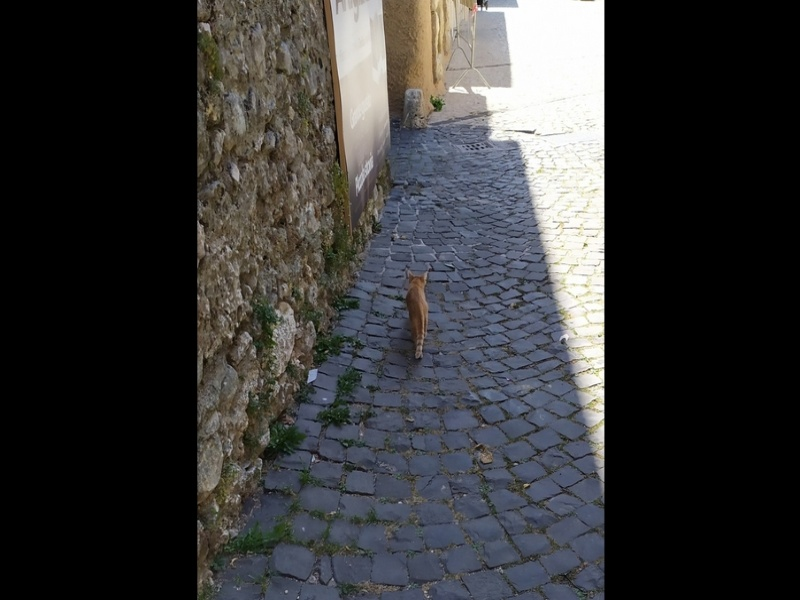cat: (403, 268, 433, 361)
